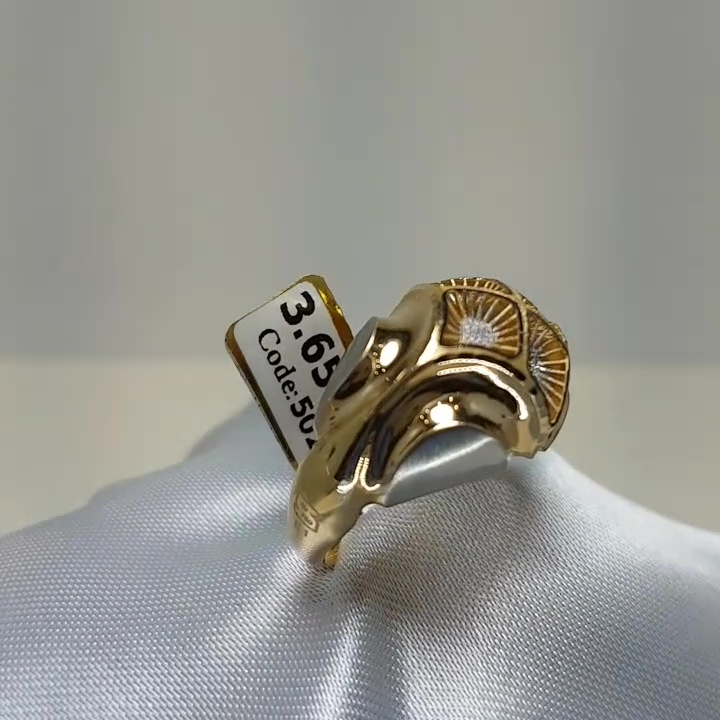Ring 2: (252, 222, 617, 587)
